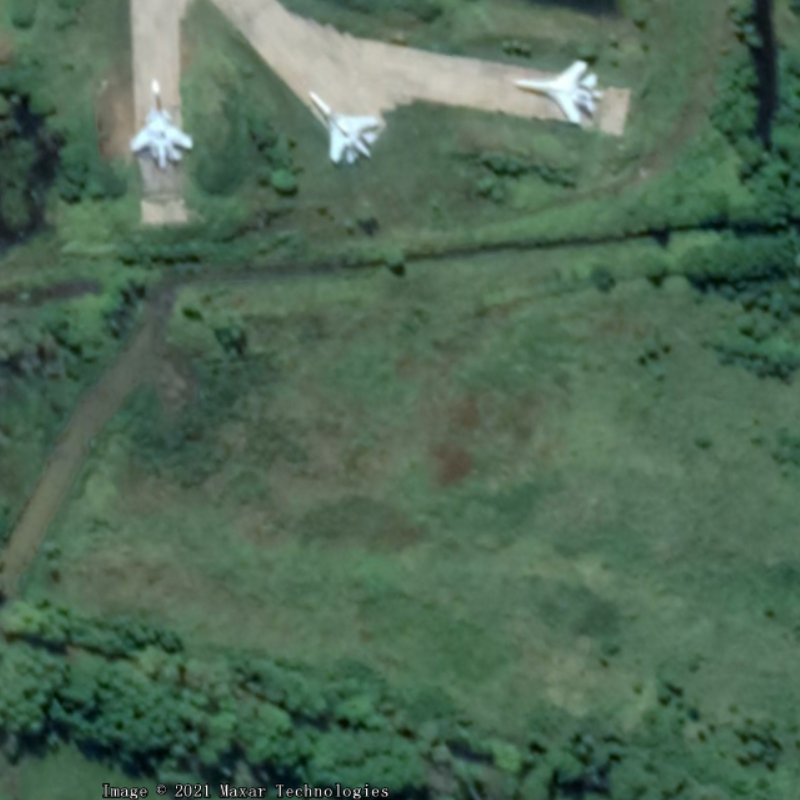A1: (512, 58, 604, 126), (305, 88, 382, 166)
A19: (128, 77, 195, 169)
